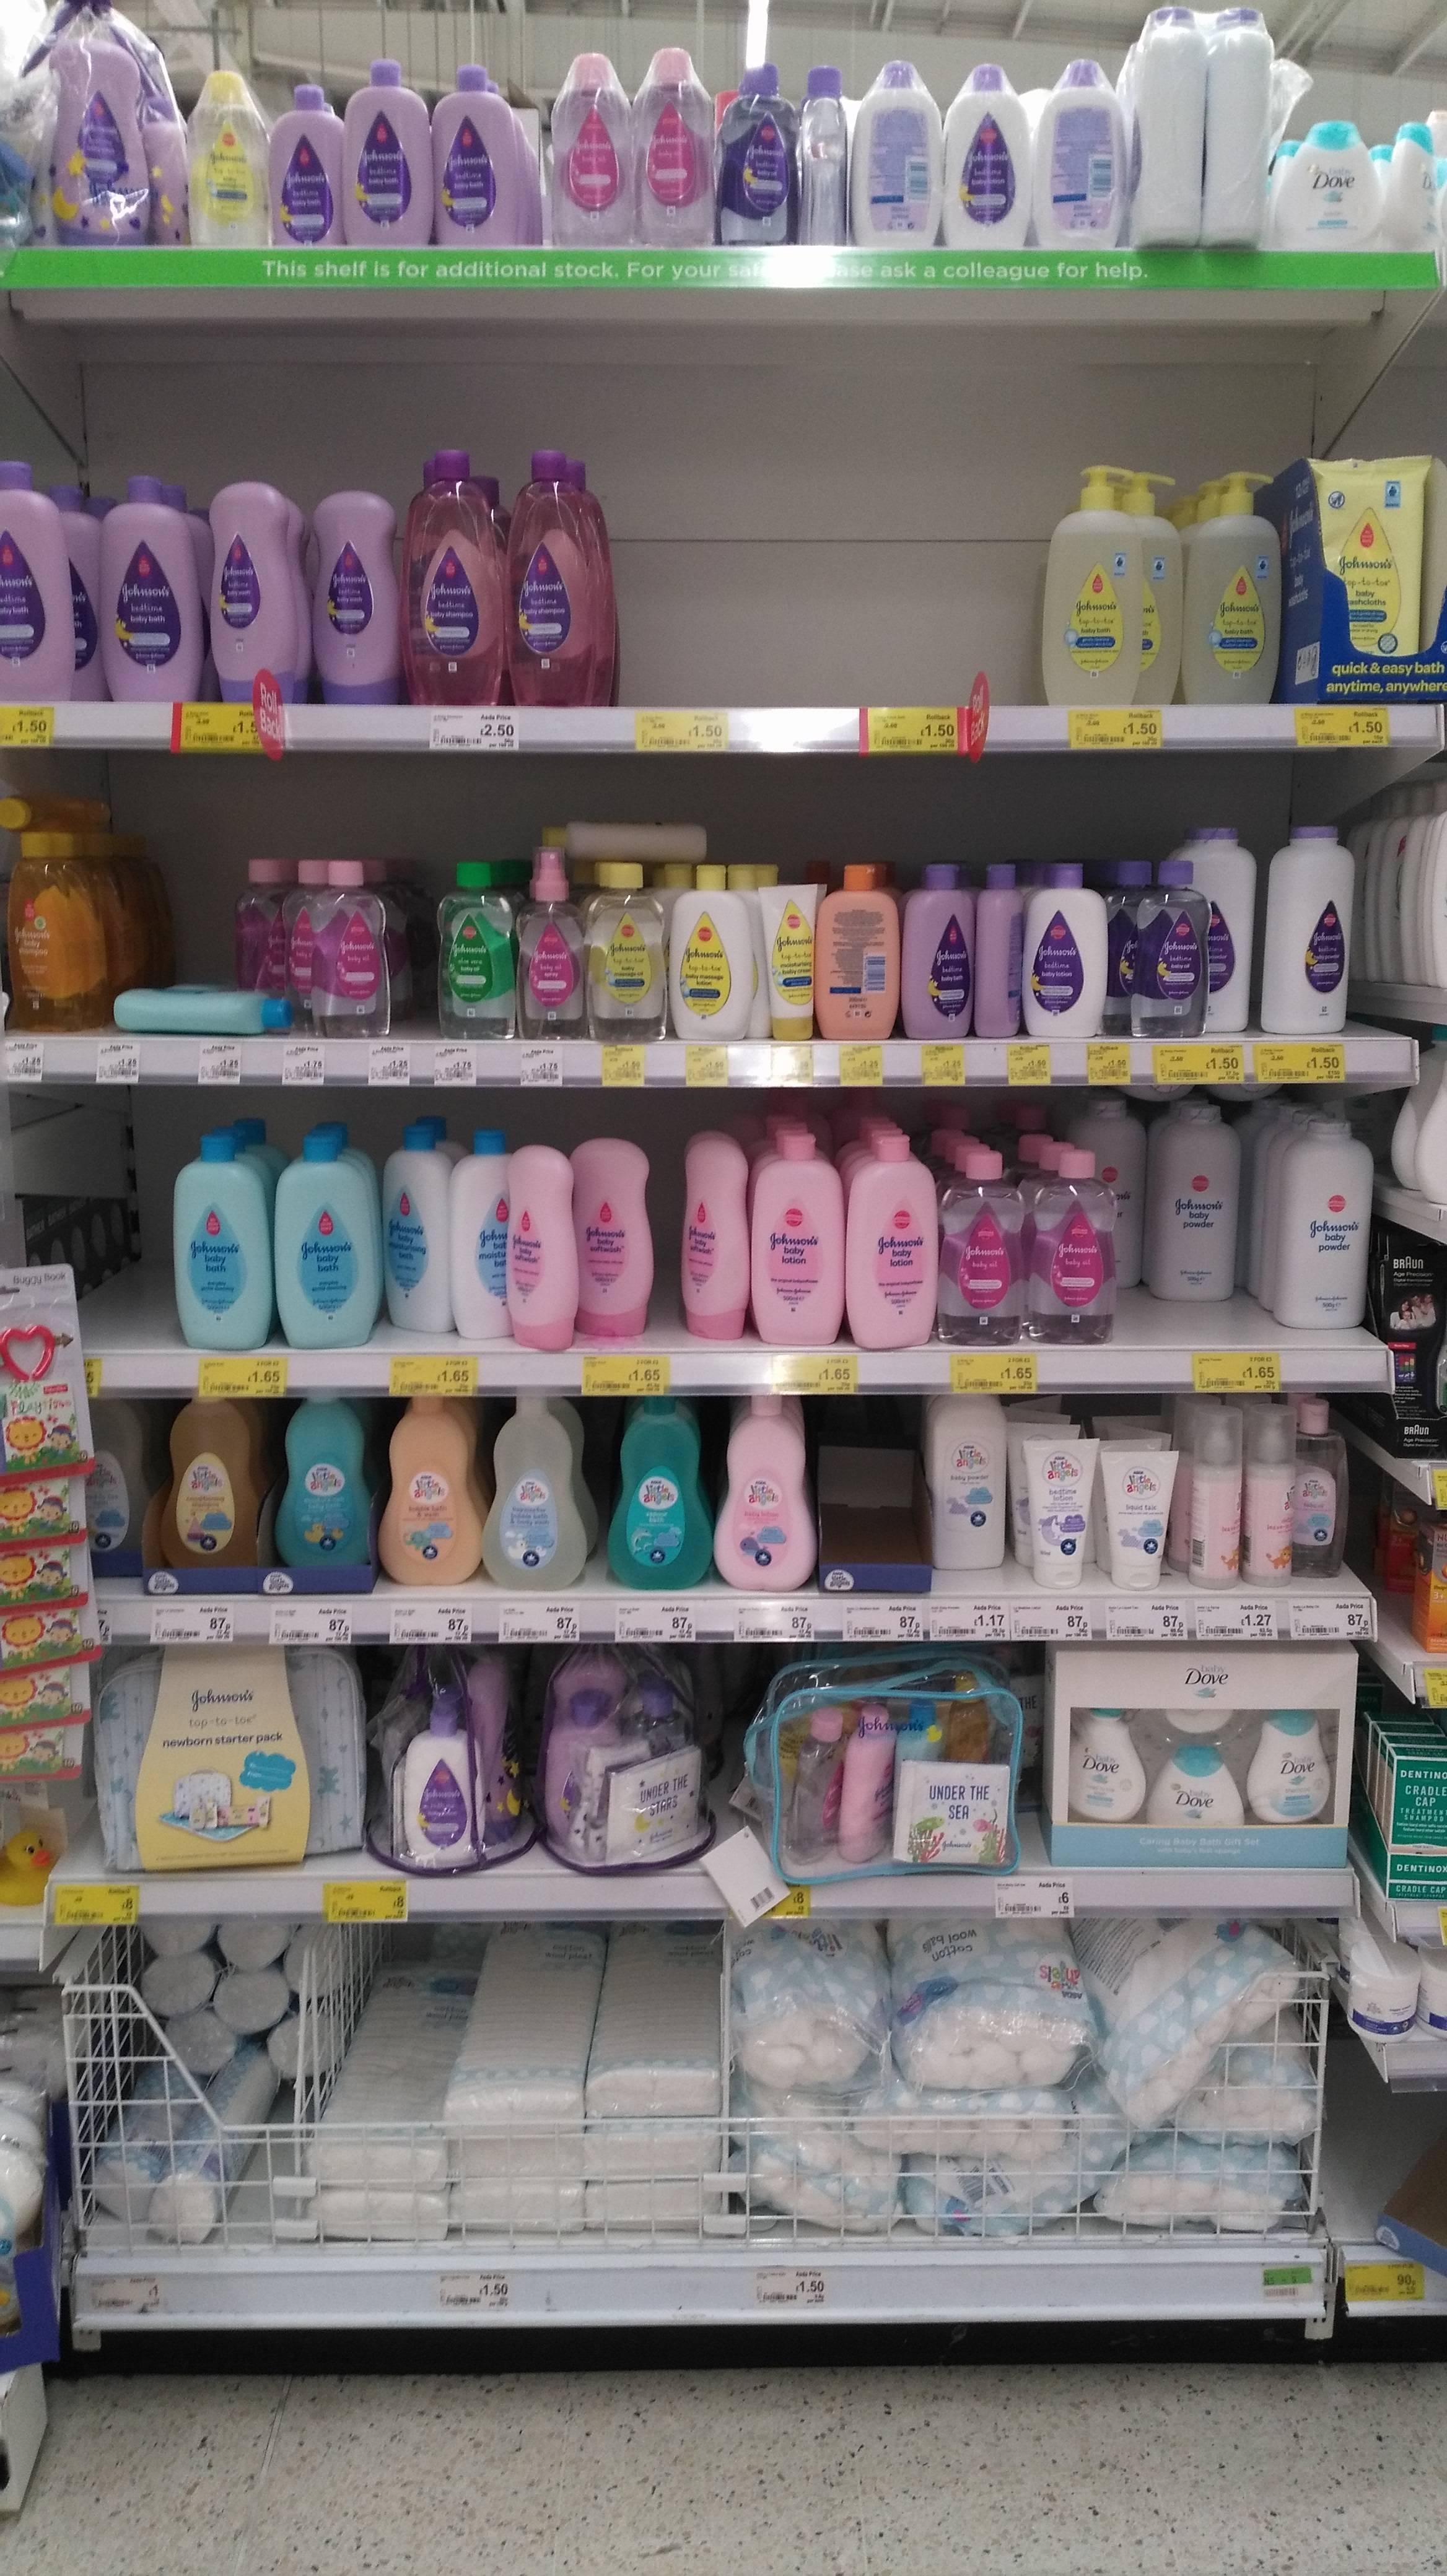empty: (603, 472, 745, 709), (752, 474, 893, 711), (900, 464, 1042, 701), (69, 1136, 175, 1350), (815, 1415, 918, 1585)
